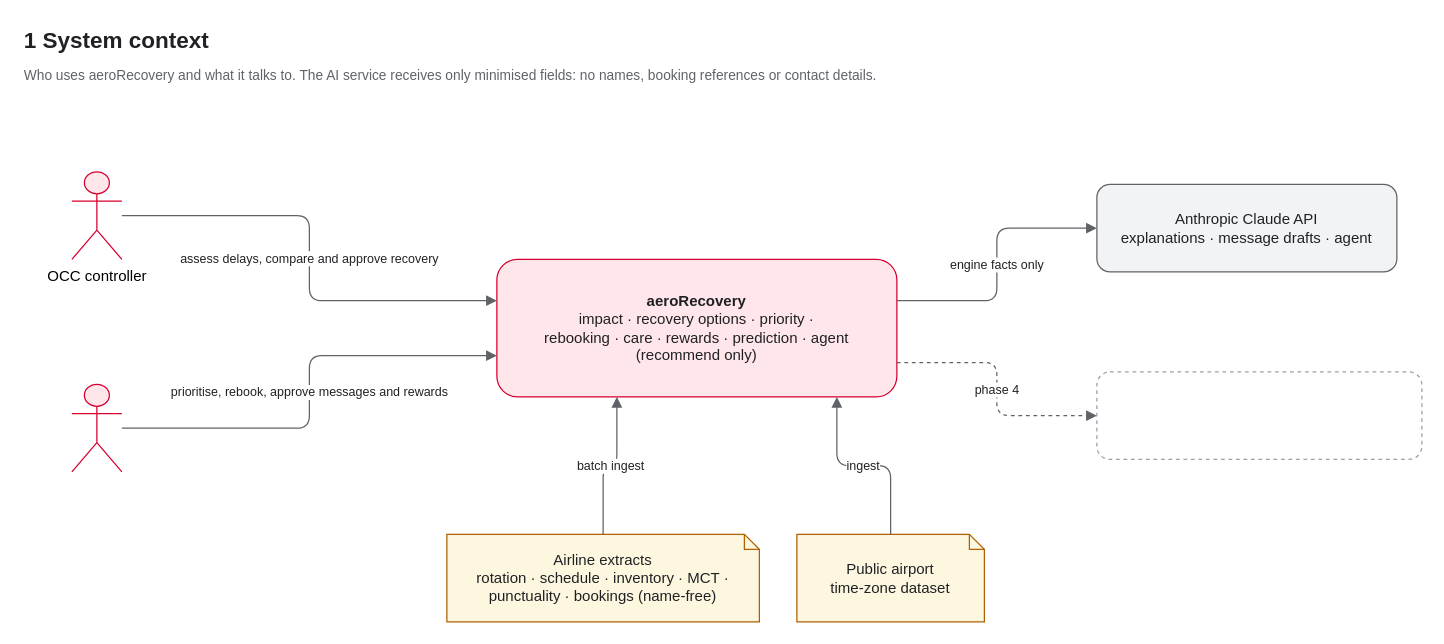
The diagram is 1444 pixels wide and 644 high, and some of its shapes have lost their labels. The centre of each missing label's shape, as x and y in pixels:
Airline systems (later) events · real loyalty / SSR · crew · PSS write-back: the point at 1259,415
PCU agent: the point at 96,427
